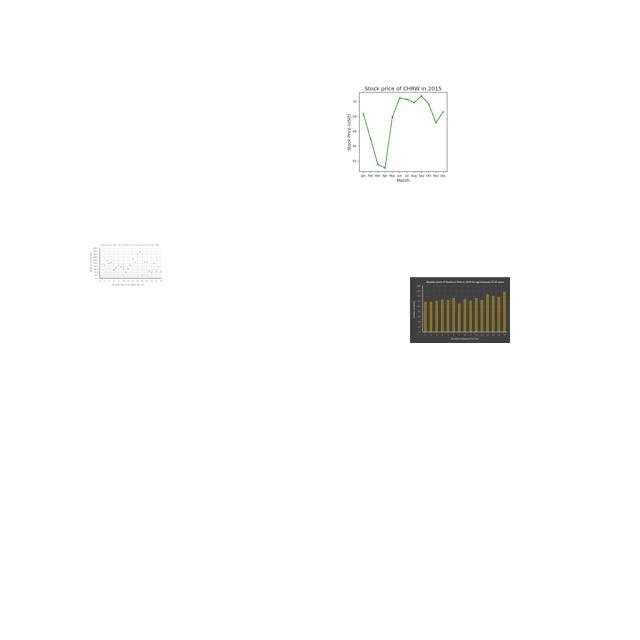Graph: (333, 80, 470, 183), (410, 277, 510, 343), (89, 242, 163, 287)
